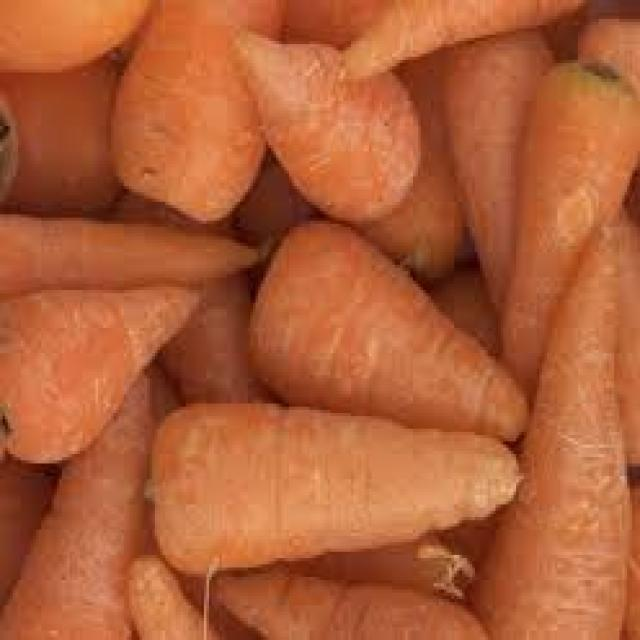Fresh_Carrot: (156, 223, 525, 573), (475, 224, 630, 638), (0, 286, 200, 463), (248, 34, 420, 222), (112, 20, 265, 222), (0, 214, 259, 295)
